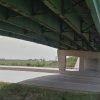Bridge: (2, 1, 95, 57)
